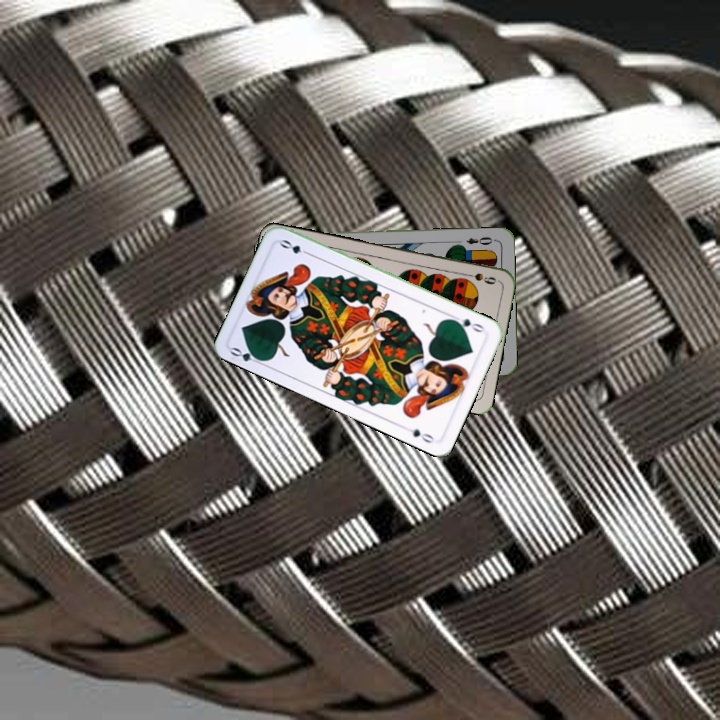EO: (462, 233, 498, 248)
GO: (226, 343, 267, 368), (449, 312, 487, 336)
S9: (459, 269, 499, 287)
